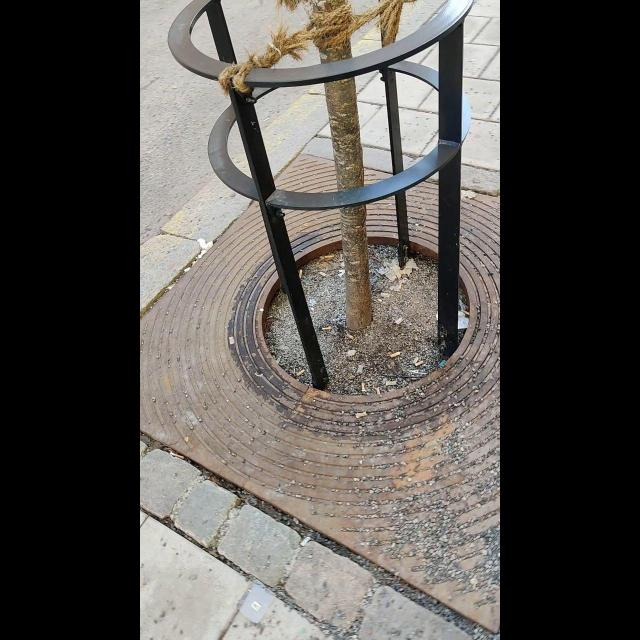cigarette: (167, 450, 186, 458), (354, 410, 368, 420), (300, 536, 311, 548), (228, 335, 236, 345), (298, 267, 304, 279), (390, 352, 400, 359), (360, 381, 366, 392), (321, 324, 332, 330), (414, 360, 422, 368), (460, 310, 469, 317), (297, 368, 304, 376), (346, 334, 355, 340), (322, 255, 334, 259), (376, 388, 381, 395)
